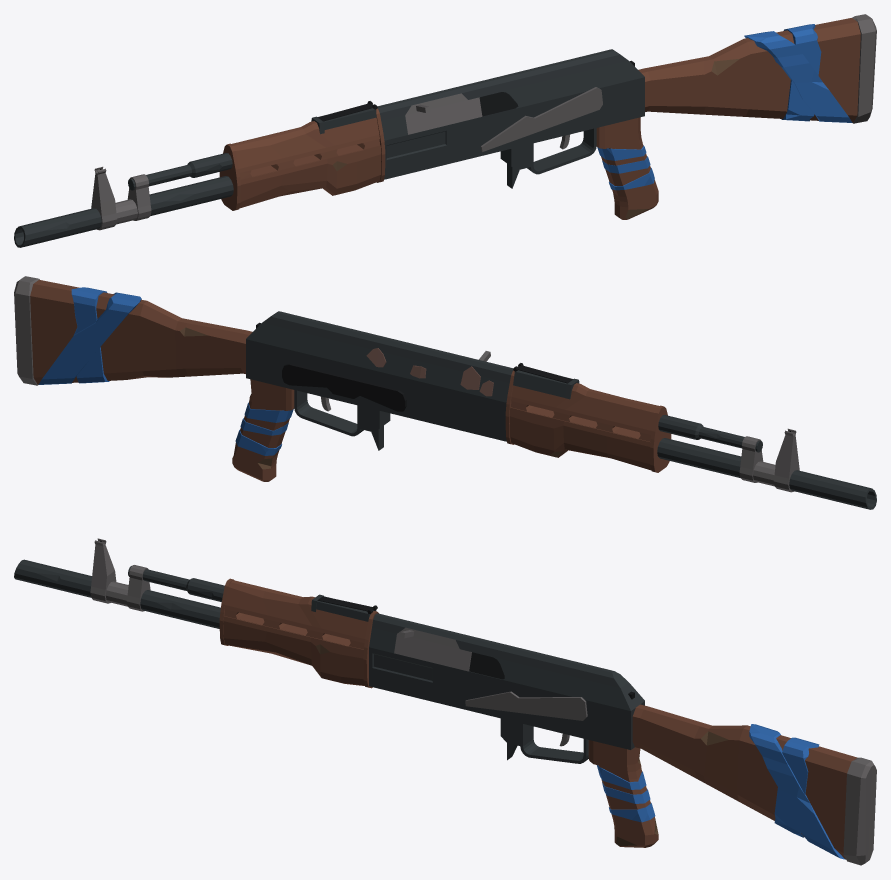
The model's file is Assault_Rifle_5,45_02.gltf.
3 renders of one model, top to bottom at view 1: azimuth 30°, elevation 25°; view 2: azimuth 150°, elevation 25°; view 3: azimuth 330°, elevation 25°, orthographic.
Visible parts, largest first — view 1: Assault_Rifle_5,45_02, Fuse_02, Gate_02; view 2: Assault_Rifle_5,45_02; view 3: Assault_Rifle_5,45_02, Fuse_02, Gate_02.
Part boxes in pixels (x1,y1,x2,y2): Assault_Rifle_5,45_02: (14, 14, 876, 247); Fuse_02: (480, 87, 602, 151); Gate_02: (405, 93, 482, 134); Assault_Rifle_5,45_02: (14, 276, 876, 509); Assault_Rifle_5,45_02: (14, 538, 876, 865); Fuse_02: (465, 691, 587, 720); Gate_02: (394, 627, 471, 671).
Bounding box in the file's own units: 0.9288 × 0.1838 × 0.0422.
